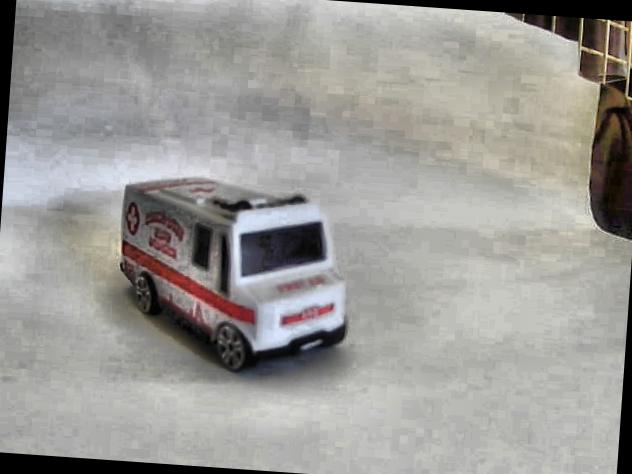ambulance: (110, 170, 356, 380)
